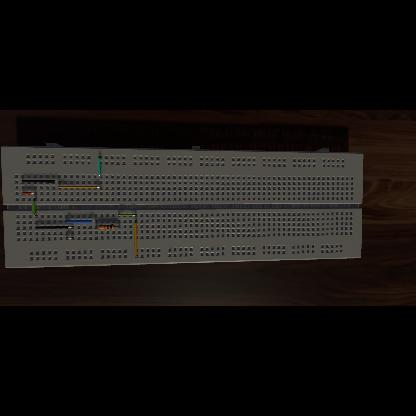breadboard: (1, 143, 363, 269)
resistor: (97, 225, 114, 229)
wire: (134, 220, 138, 258), (32, 199, 38, 217), (98, 156, 102, 178), (58, 186, 102, 188), (21, 181, 61, 183), (35, 227, 74, 229), (65, 221, 97, 223), (119, 214, 138, 216), (22, 193, 36, 195), (66, 237, 74, 239), (116, 226, 120, 228), (96, 226, 98, 228)
